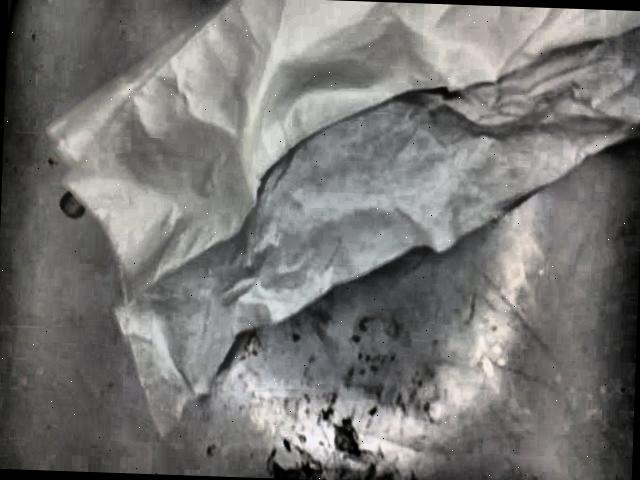Paper: (46, 0, 640, 438)
